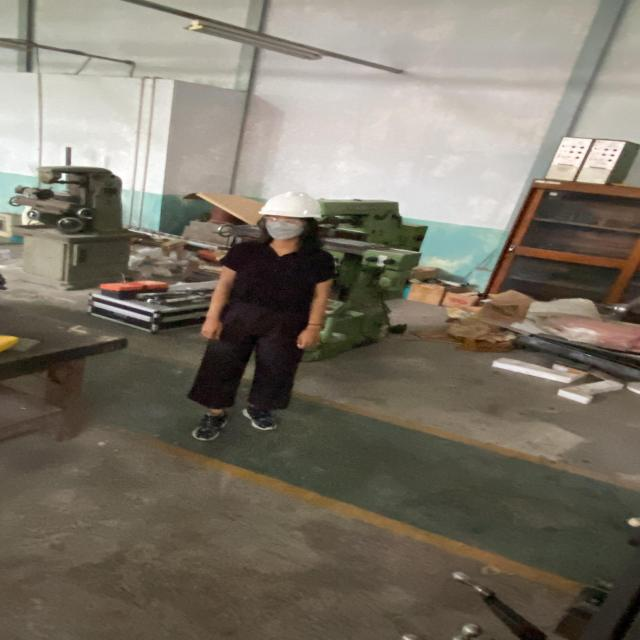face_mask: (258, 214, 306, 242)
glasses: (256, 215, 309, 226)
hand_noglove: (197, 318, 228, 342), (294, 327, 322, 351)
head_helmet: (255, 191, 328, 219)
person: (178, 190, 337, 443)
shoes: (183, 407, 234, 443), (237, 402, 281, 436)
